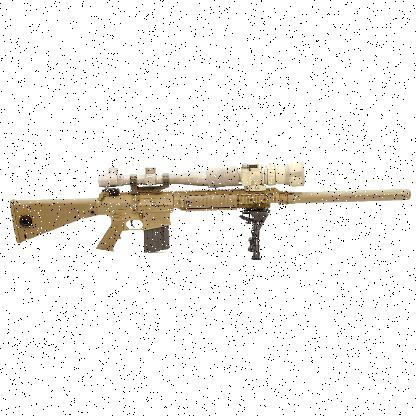gun: (11, 162, 408, 258)
